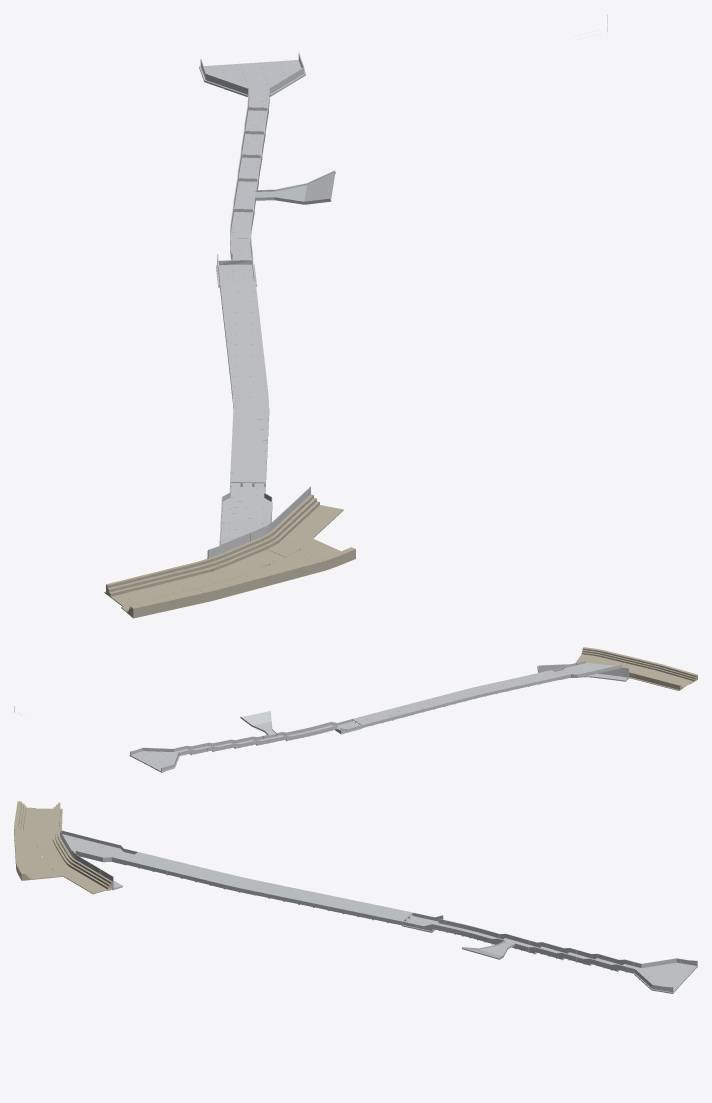
The model's file is 500125-CSSP001-560-XX-MD-ST-000092.glb.
The picture shows the model from 3 angles, top to bottom: view 1: azimuth 30°, elevation 25°; view 2: azimuth 150°, elevation 25°; view 3: azimuth 270°, elevation 25°; orthographic projection. The views are drawn at different scales.
Visible parts, largest first — view 1: 500125-CSSP001-560-XX-MD-ST-000092#GAV001, 500125-CSSP001-560-XX-MD-ST-000092#CAN004, 500125-CSSP001-560-XX-MD-ST-000092#CAN006, 500125-CSSP001-560-XX-MD-ST-000092#CAN007, 500125-CSSP001-560-XX-MD-ST-000092#CAN002, 500125-CSSP001-560-XX-MD-ST-000092#GAV002, 500125-CSSP001-560-XX-MD-ST-000092#CAN005; view 2: 500125-CSSP001-560-XX-MD-ST-000092#CAN004, 500125-CSSP001-560-XX-MD-ST-000092#CAN006, 500125-CSSP001-560-XX-MD-ST-000092#CAN007, 500125-CSSP001-560-XX-MD-ST-000092#GAV001, 500125-CSSP001-560-XX-MD-ST-000092#CAN002, 500125-CSSP001-560-XX-MD-ST-000092#GAV002, 500125-CSSP001-560-XX-MD-ST-000092#CAN005; view 3: 500125-CSSP001-560-XX-MD-ST-000092#GAV001, 500125-CSSP001-560-XX-MD-ST-000092#CAN004, 500125-CSSP001-560-XX-MD-ST-000092#CAN006, 500125-CSSP001-560-XX-MD-ST-000092#CAN007, 500125-CSSP001-560-XX-MD-ST-000092#CAN002, 500125-CSSP001-560-XX-MD-ST-000092#GAV002, 500125-CSSP001-560-XX-MD-ST-000092#CAN005.
Boxes of the visible parts, bbox=[...] form: 500125-CSSP001-560-XX-MD-ST-000092#GAV001: bbox=[163, 494, 355, 603]; 500125-CSSP001-560-XX-MD-ST-000092#CAN004: bbox=[216, 114, 335, 308]; 500125-CSSP001-560-XX-MD-ST-000092#CAN006: bbox=[223, 315, 269, 465]; 500125-CSSP001-560-XX-MD-ST-000092#CAN007: bbox=[205, 454, 310, 559]; 500125-CSSP001-560-XX-MD-ST-000092#CAN002: bbox=[199, 59, 301, 126]; 500125-CSSP001-560-XX-MD-ST-000092#GAV002: bbox=[104, 570, 203, 618]; 500125-CSSP001-560-XX-MD-ST-000092#CAN005: bbox=[222, 301, 261, 337]; 500125-CSSP001-560-XX-MD-ST-000092#CAN004: bbox=[197, 710, 382, 751]; 500125-CSSP001-560-XX-MD-ST-000092#CAN006: bbox=[393, 674, 539, 719]; 500125-CSSP001-560-XX-MD-ST-000092#CAN007: bbox=[531, 660, 628, 684]; 500125-CSSP001-560-XX-MD-ST-000092#GAV001: bbox=[537, 647, 664, 683]; 500125-CSSP001-560-XX-MD-ST-000092#CAN002: bbox=[136, 745, 207, 772]; 500125-CSSP001-560-XX-MD-ST-000092#GAV002: bbox=[651, 665, 697, 690]; 500125-CSSP001-560-XX-MD-ST-000092#CAN005: bbox=[373, 705, 413, 722]; 500125-CSSP001-560-XX-MD-ST-000092#GAV001: bbox=[14, 821, 112, 894]; 500125-CSSP001-560-XX-MD-ST-000092#CAN004: bbox=[373, 906, 604, 966]; 500125-CSSP001-560-XX-MD-ST-000092#CAN006: bbox=[153, 858, 338, 910]; 500125-CSSP001-560-XX-MD-ST-000092#CAN007: bbox=[60, 830, 167, 890]; 500125-CSSP001-560-XX-MD-ST-000092#CAN002: bbox=[596, 955, 697, 987]; 500125-CSSP001-560-XX-MD-ST-000092#GAV002: bbox=[14, 801, 62, 828]; 500125-CSSP001-560-XX-MD-ST-000092#CAN005: bbox=[313, 897, 387, 921].
Size of the model in its own units: 325 by 17.85 by 309.
